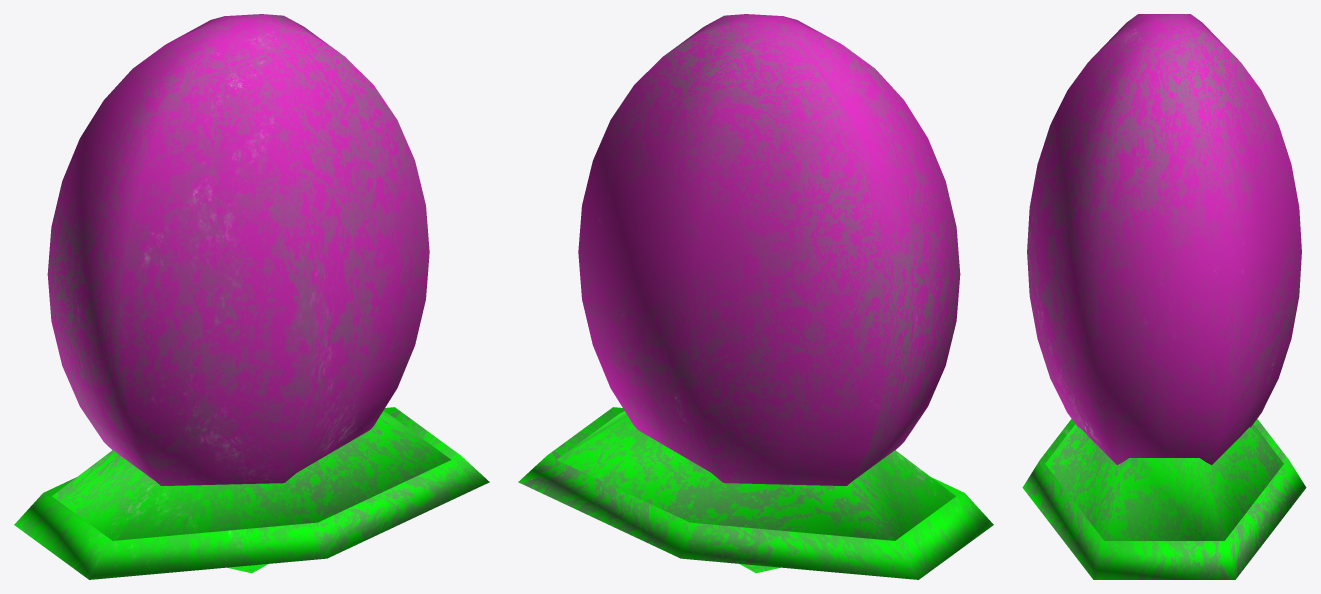
File: itugoBullet.obj
3 views of the same model, side by side, from view 1: azimuth 30°, elevation 25°; view 2: azimuth 150°, elevation 25°; view 3: azimuth 270°, elevation 25° (orthographic). The views are drawn at different scales.
Visible parts, largest first — view 1: 球.002; view 2: 球.002; view 3: 球.002.
Boxes of the visible parts, x1,y1,x2,y2 form: 球.002: (14, 14, 489, 579); 球.002: (518, 14, 993, 579); 球.002: (1022, 14, 1306, 579).
Bounding box in the file's own units: 0.4839 × 0.6401 × 0.3147.
1 material, 1 textured.
